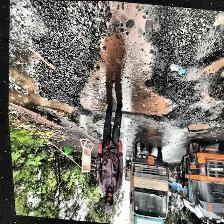pothole: (66, 0, 184, 122), (198, 50, 224, 82), (182, 117, 210, 137)
